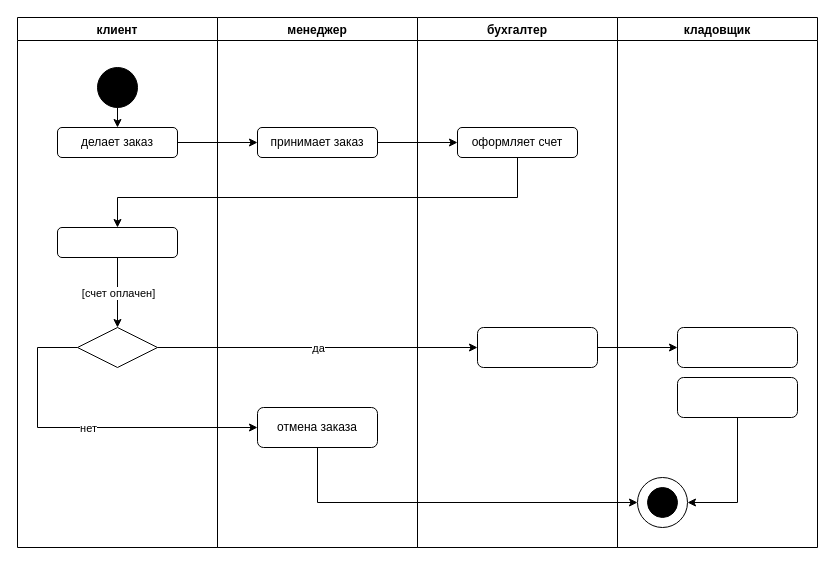
Some shapes in this 835 by 565 pixel diagram are drawn without their labels. Here are the shapes that lost their labels. From the top down, the centre of each, then its label:
At pixel 117 242: "оплата счета".
At pixel 537 347: "оформление накладной".
At pixel 737 347: "сборка заказа".
At pixel 737 397: "выдача товара".
